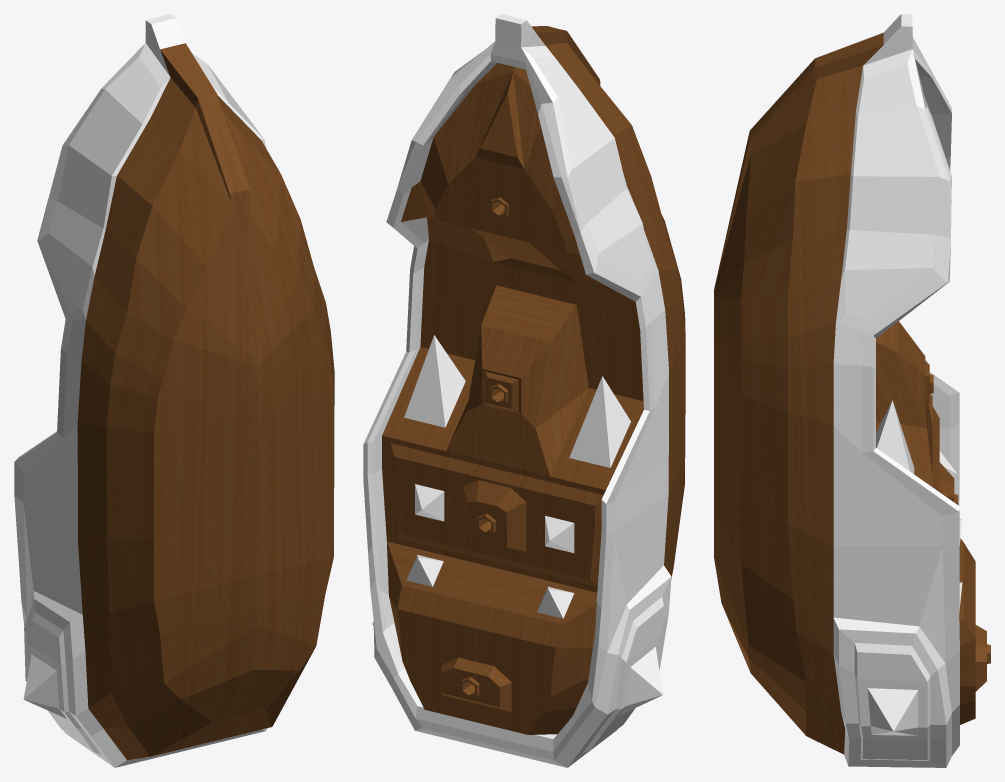
The model's file is body_8.fbx.
The picture shows the model from 3 angles, left to right: view 1: azimuth 30°, elevation 25°; view 2: azimuth 150°, elevation 25°; view 3: azimuth 270°, elevation 25°; orthographic projection.
Visible parts, largest first — view 1: Cube.043; view 2: Cube.043; view 3: Cube.043.
Part boxes in pixels (left/top/right/bottom): Cube.043: left=14, top=14, right=334, bottom=767; Cube.043: left=363, top=14, right=685, bottom=767; Cube.043: left=714, top=14, right=990, bottom=767.
Size of the model in its own units: 234 by 567 by 194.
